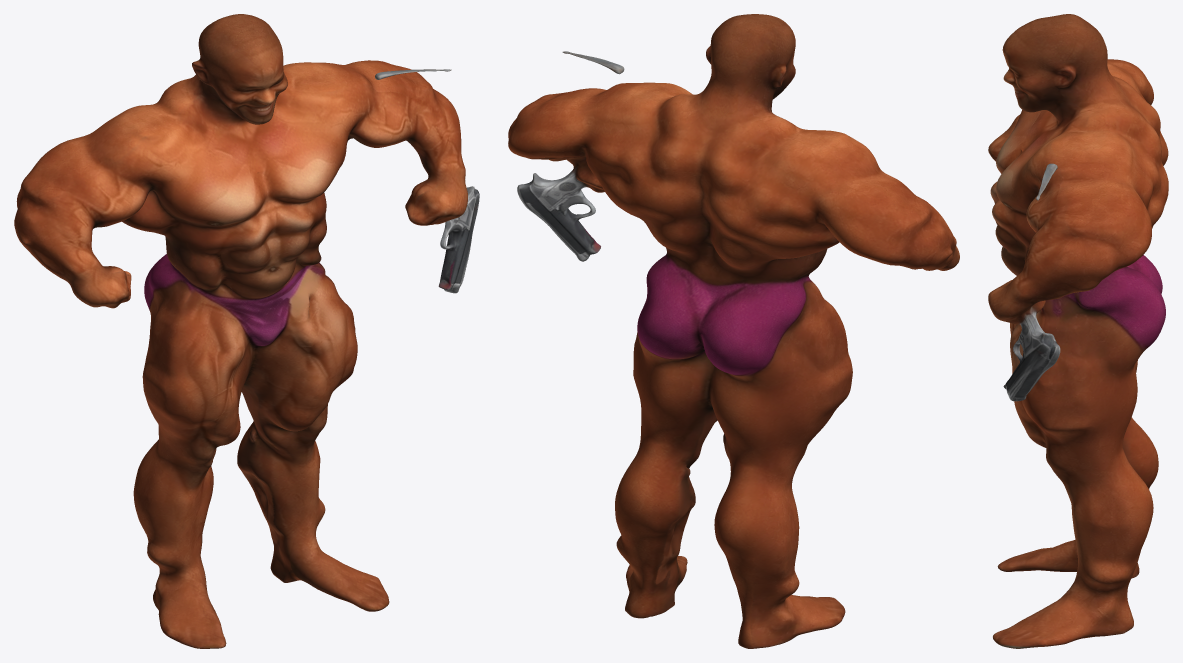
File: player1.glb
3 renders of one model, left to right at view 1: azimuth 30°, elevation 25°; view 2: azimuth 150°, elevation 25°; view 3: azimuth 270°, elevation 25°, orthographic. The views are drawn at different scales.
Visible parts, largest first — view 1: mesh_node; view 2: mesh_node; view 3: mesh_node.
Boxes of the visible parts, <box> form: mesh_node: <box>14,14,479,648</box>; mesh_node: <box>508,14,959,648</box>; mesh_node: <box>988,14,1168,648</box>.
Bounding box in the file's own units: 1.6 × 2.04 × 0.5811.
1 material, 1 textured.
